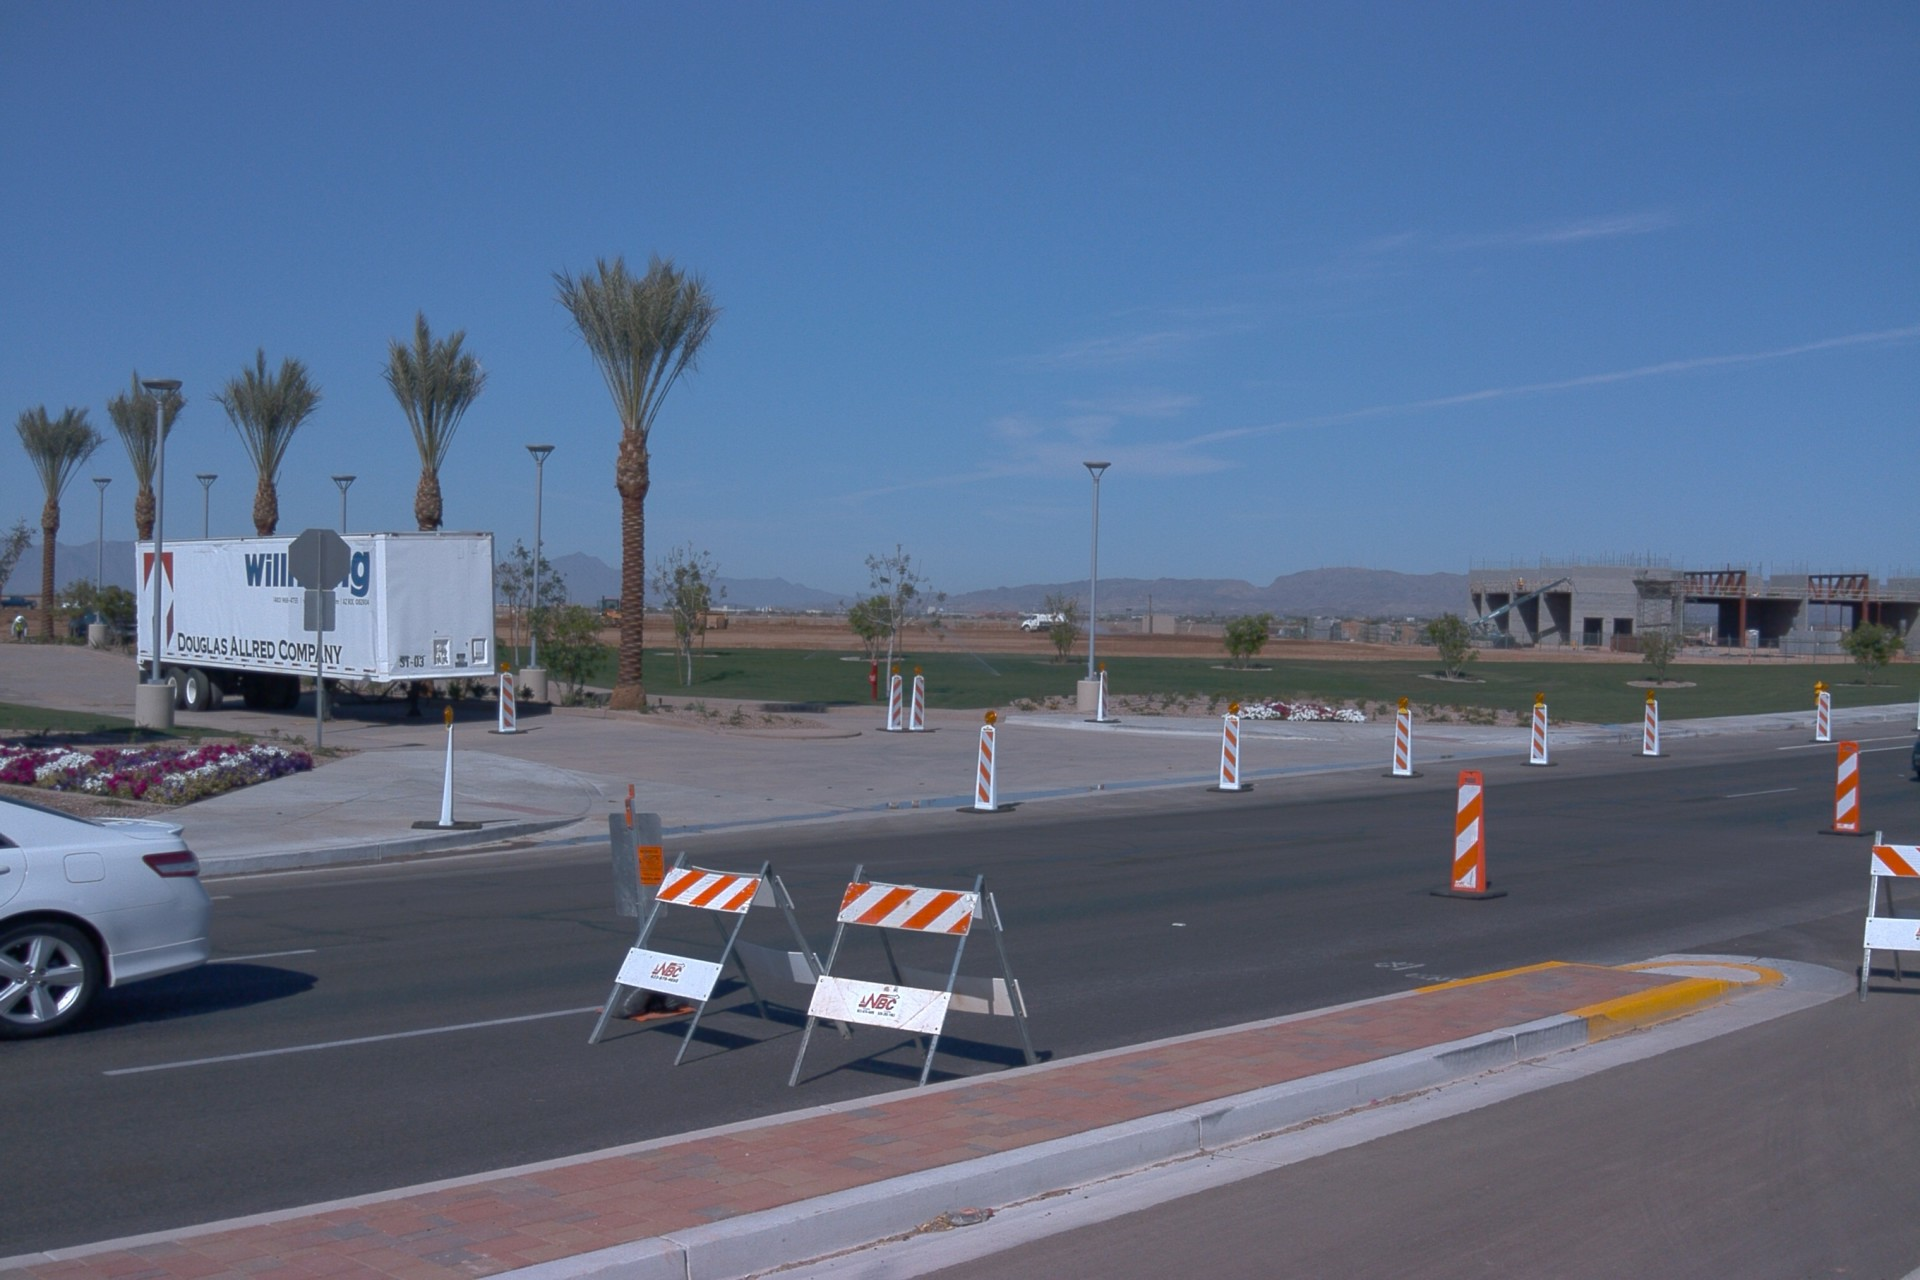TYPE_PEDESTRIAN: (10, 615, 29, 642)
TYPE_VEHICLE: (133, 527, 504, 715), (0, 799, 214, 1045), (1470, 575, 1575, 638), (66, 609, 141, 651), (1017, 613, 1075, 634), (1910, 732, 1920, 783), (56, 595, 79, 608)
